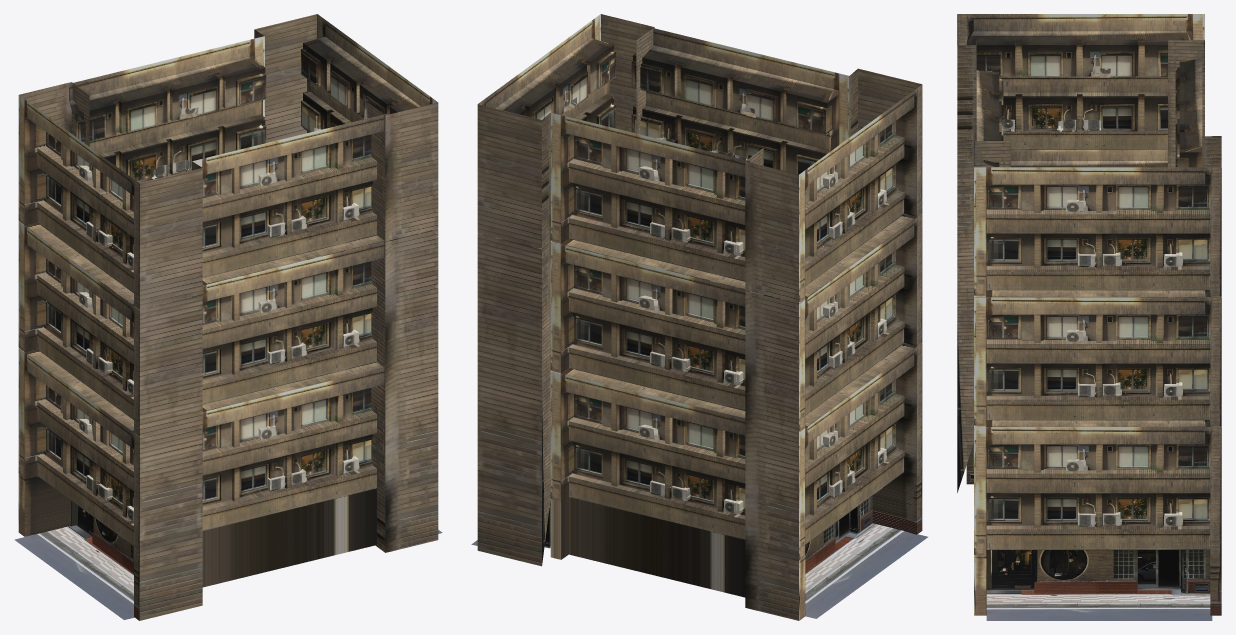
3 renders of one model, left to right at view 1: azimuth 30°, elevation 25°; view 2: azimuth 150°, elevation 25°; view 3: azimuth 270°, elevation 25°, orthographic. The views are drawn at different scales.
Visible parts, largest first — view 1: 2 (1).005; view 2: 2 (1).005; view 3: 2 (1).005.
Part boxes in pixels (x1,y1,x2,y2): 2 (1).005: (14,14,442,620); 2 (1).005: (471,14,927,620); 2 (1).005: (957,14,1221,620).
Bounding box in the file's own units: 1.06 × 1.35 × 0.7206.
Materials: 1 (1 with a texture image).
